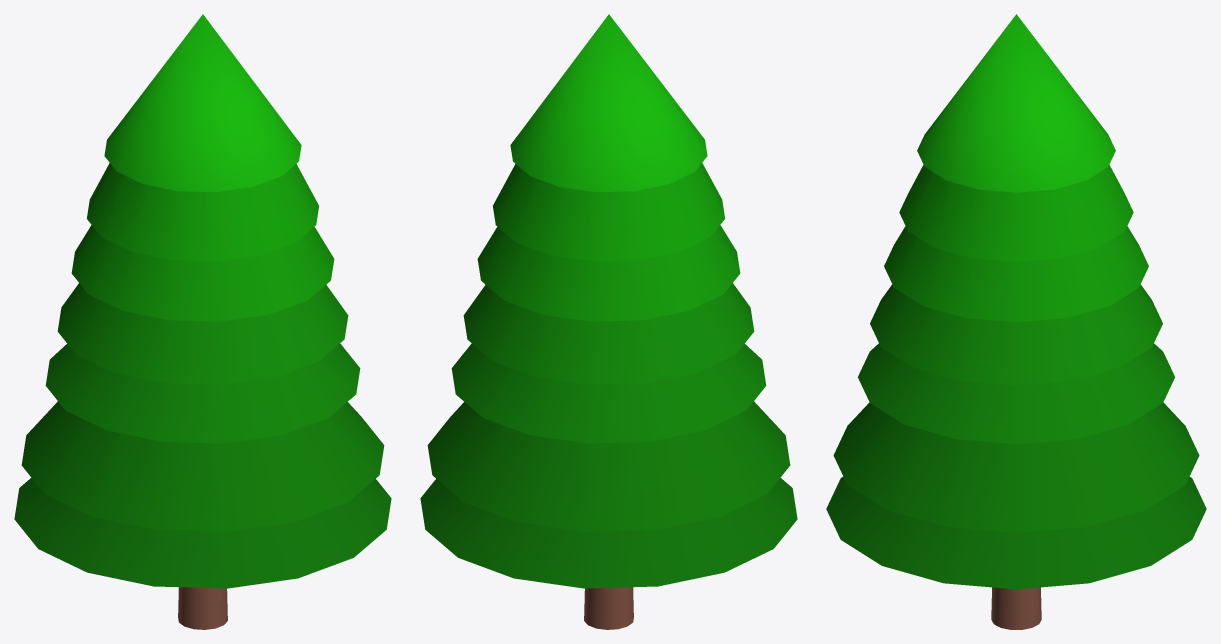
The model's file is Spruce_Cold_Green_Thick_2.fbx.
The picture shows the model from 3 angles, left to right: view 1: azimuth 30°, elevation 25°; view 2: azimuth 150°, elevation 25°; view 3: azimuth 270°, elevation 25°; orthographic projection.
Visible parts, largest first — view 1: Cylinder.928, Cylinder.929, Cylinder.927, Cylinder.926, Cylinder.924, Cylinder.925, Cylinder.931, Cylinder.930; view 2: Cylinder.928, Cylinder.929, Cylinder.927, Cylinder.926, Cylinder.924, Cylinder.925, Cylinder.931, Cylinder.930; view 3: Cylinder.928, Cylinder.929, Cylinder.927, Cylinder.926, Cylinder.924, Cylinder.925, Cylinder.931, Cylinder.930.
Part boxes in pixels (<box>): Cylinder.928: <box>21,401,384,531</box>; Cylinder.929: <box>14,478,391,588</box>; Cylinder.927: <box>104,14,301,192</box>; Cylinder.926: <box>45,343,360,443</box>; Cylinder.924: <box>57,283,348,384</box>; Cylinder.925: <box>71,225,334,321</box>; Cylinder.931: <box>87,163,318,261</box>; Cylinder.930: <box>178,587,227,629</box>; Cylinder.928: <box>427,401,790,531</box>; Cylinder.929: <box>420,478,797,588</box>; Cylinder.927: <box>510,14,707,192</box>; Cylinder.926: <box>451,343,766,443</box>; Cylinder.924: <box>463,283,754,384</box>; Cylinder.925: <box>477,225,740,321</box>; Cylinder.931: <box>493,163,724,261</box>; Cylinder.930: <box>584,587,633,629</box>; Cylinder.928: <box>833,402,1199,532</box>; Cylinder.929: <box>826,476,1206,589</box>; Cylinder.927: <box>917,14,1115,192</box>; Cylinder.926: <box>858,343,1174,444</box>; Cylinder.924: <box>870,284,1162,385</box>; Cylinder.925: <box>884,226,1148,322</box>; Cylinder.931: <box>899,165,1133,261</box>; Cylinder.930: <box>991,587,1041,629</box>.
Size of the model in its own units: 349 by 612 by 349.
